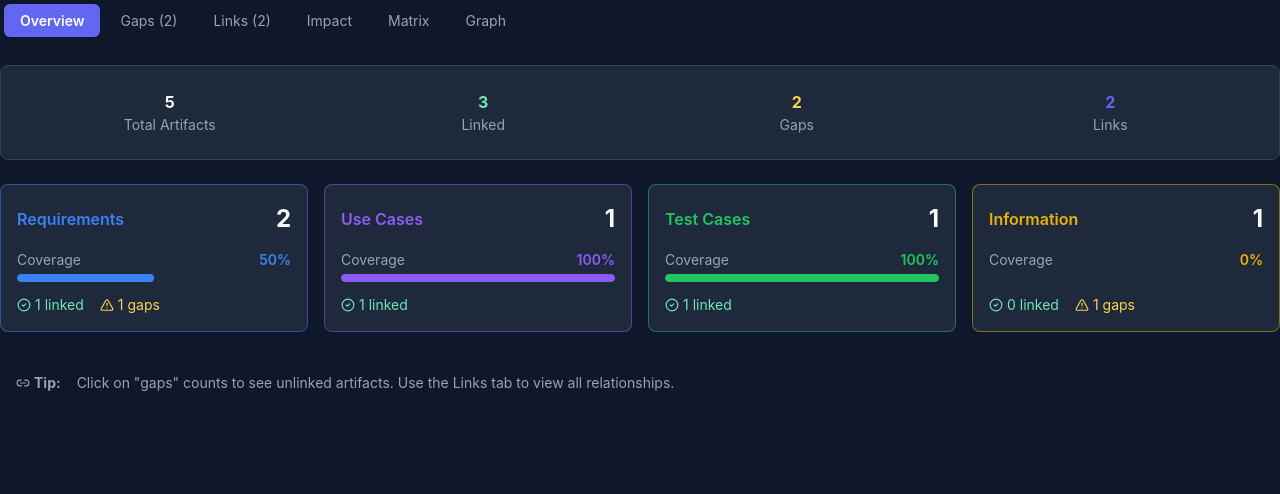
Test: TraceabilityDashboard › Impact Tab › shows connections when artifact is selected
Click the button "Impact". click: point(329, 20)
box: left=291, top=4, right=368, bottom=37
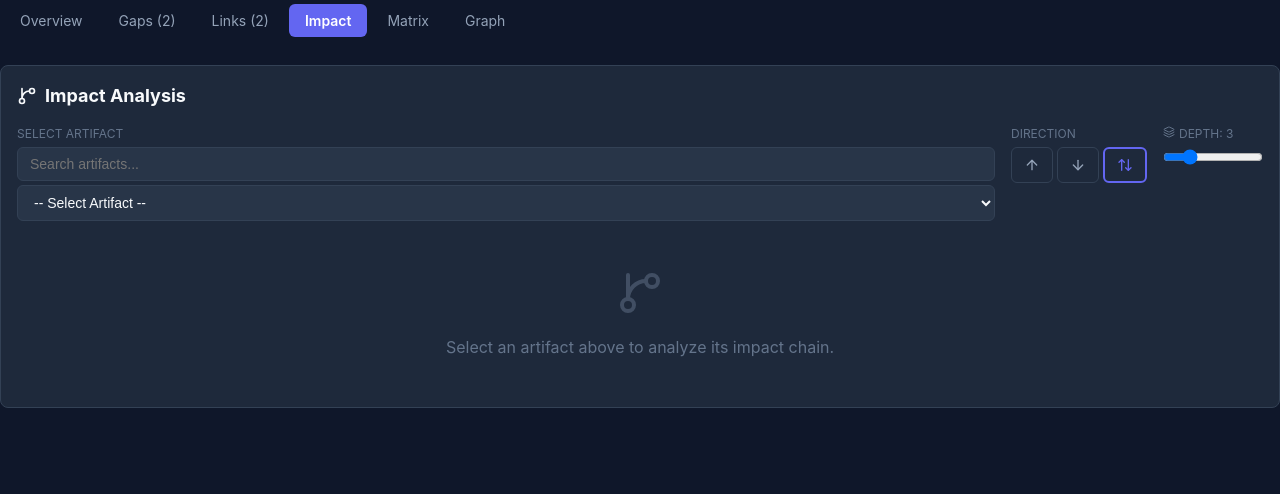
Select "REQ-001 - Parent Req" in the dropdown. click: point(506, 203)
box: left=17, top=185, right=995, bottom=221
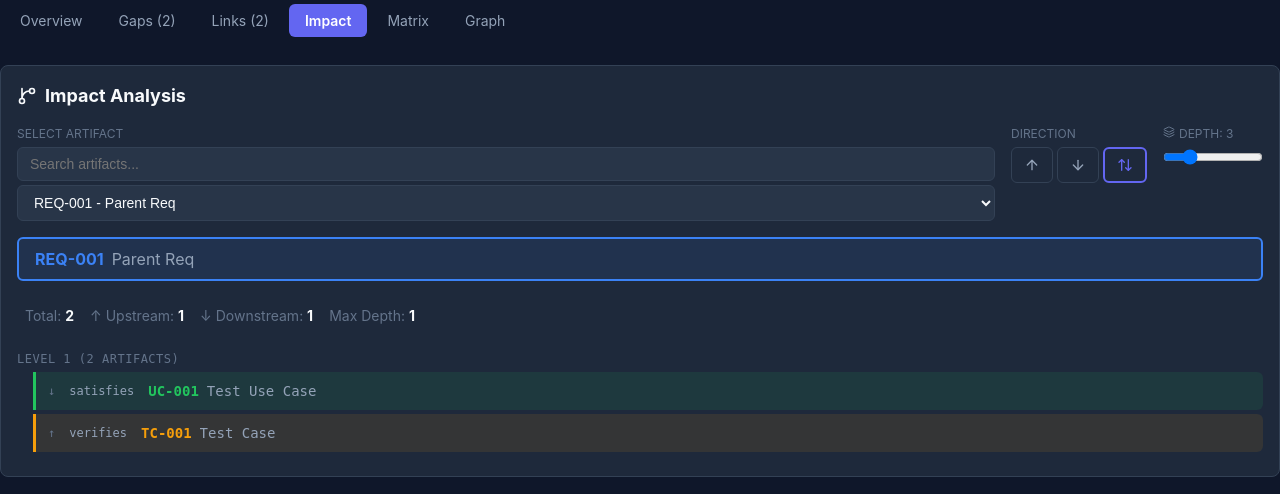
Now the text "REQ-001" is shown, box left=35, top=249, right=104, bottom=269
Now the text "UC-001" is shown, box left=148, top=380, right=199, bottom=402
